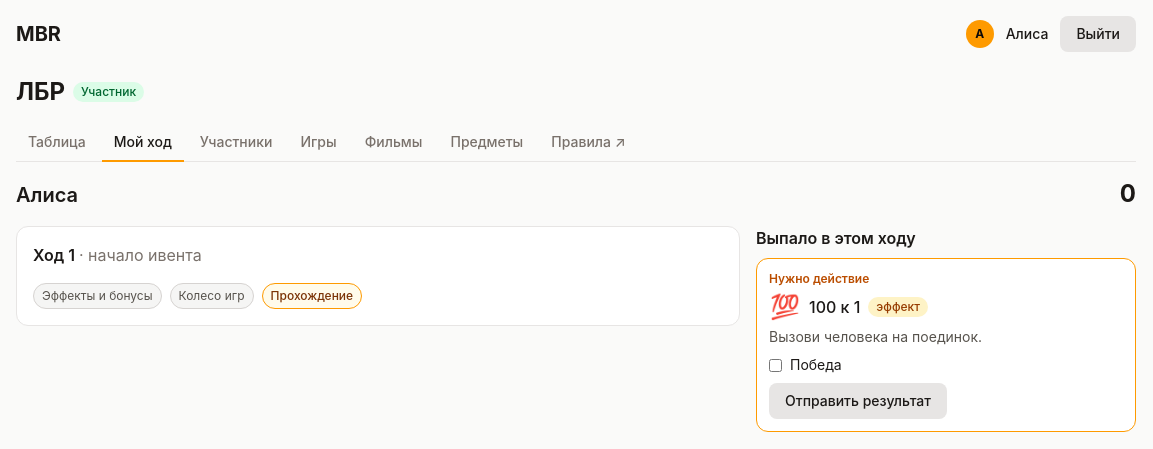
it: my turn › locks item fields once they are sent to the judge
The image size is (1153, 449).
Click the checkbox labelled "Победа" at (776, 365), box [769,358,782,372]
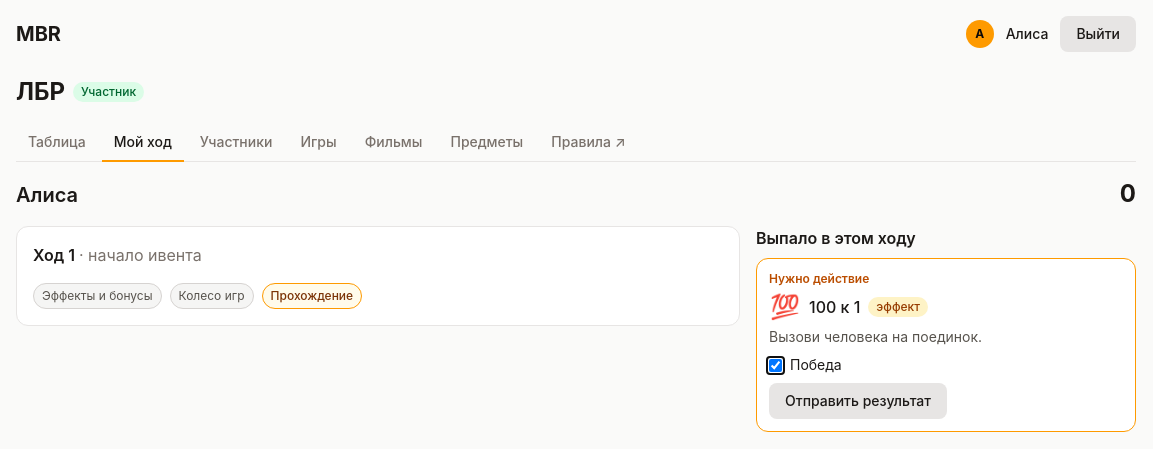
Click the button "Отправить результат" at (858, 401), box [769,383,947,419]
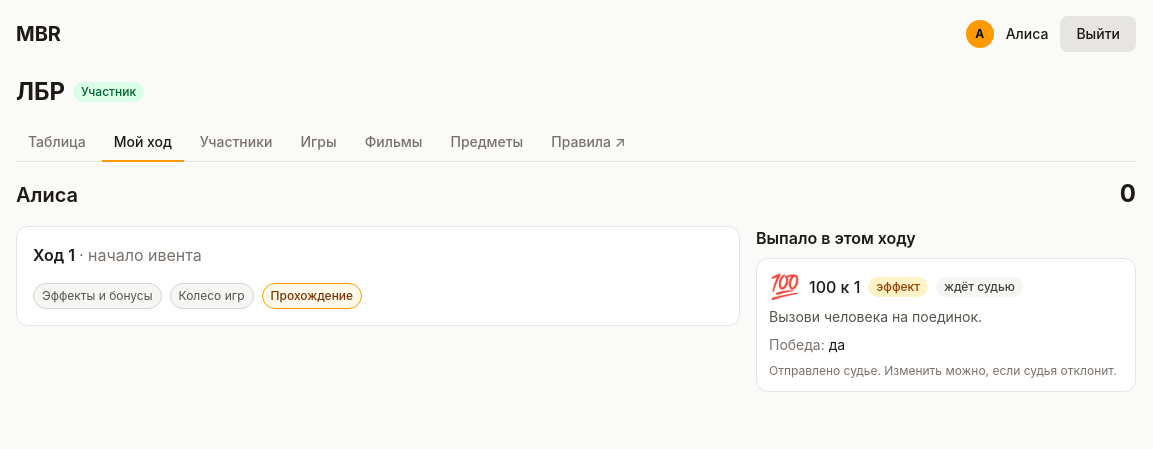
Expected: the text "Отправлено судье. Изменить можно, если судья отклонит." is shown, [769,363,1123,379]
Expected: the checkbox is gone
Expected: the element "100 к 1" shows "Победа: да", [756,258,1136,392]
